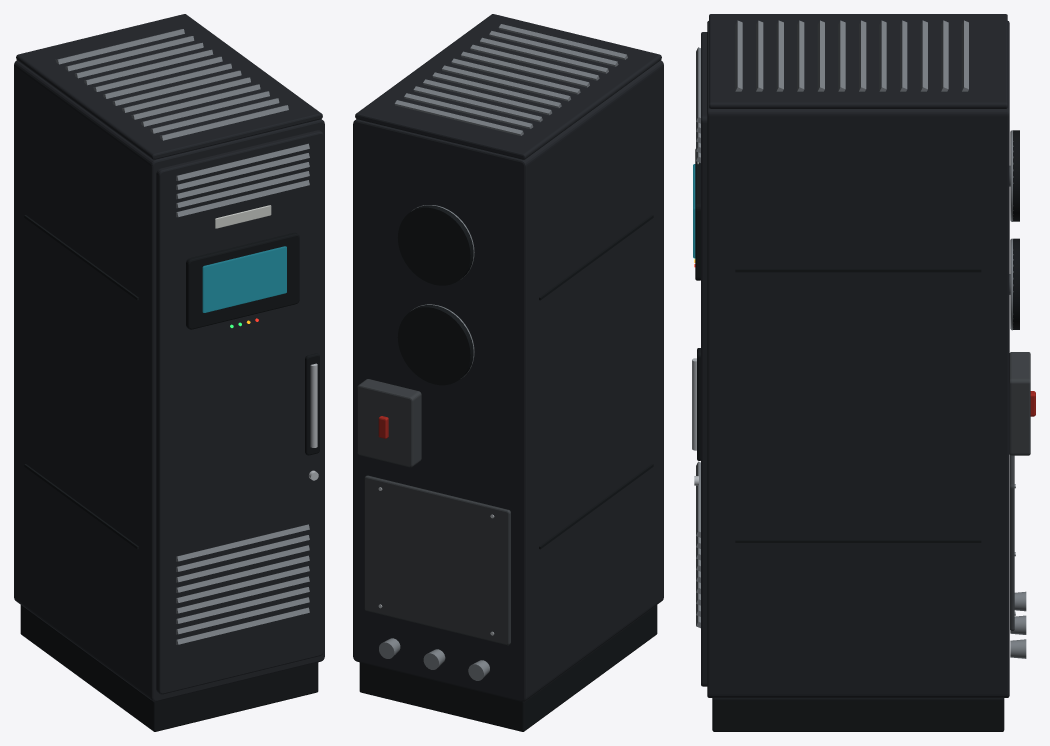
Rendered from ups.glb.
3 renders of one model, left to right at view 1: azimuth 30°, elevation 25°; view 2: azimuth 150°, elevation 25°; view 3: azimuth 270°, elevation 25°, orthographic. The views are drawn at different scales.
Visible parts, largest first — view 1: cabinet_body, front_door, top_deck, top_exhaust, base_plinth, front_lower_vent, hmi_bezel, front_upper_vent, hmi_touchscreen, door_handle_recess, door_handle, hmi_brand_plate (+2 smaller); view 2: cabinet_body, rear_terminal_cover, top_deck, top_exhaust, base_plinth, rear_breaker_box, rear_fan_upper_recess, rear_fan_lower_recess, side_seam_l_1, side_seam_l_0; view 3: cabinet_body, top_deck, base_plinth, top_exhaust, front_door, rear_breaker_box, side_seam_r_0, side_seam_r_1, rear_terminal_cover, front_lower_vent, hmi_bezel, rear_fan_upper_recess (+2 smaller).
Boxes of the visible parts, bbox=[...] form: cabinet_body: bbox=[14, 60, 324, 701]; front_door: bbox=[156, 130, 323, 694]; top_deck: bbox=[16, 14, 322, 159]; top_exhaust: bbox=[55, 29, 288, 140]; base_plinth: bbox=[20, 605, 318, 731]; front_lower_vent: bbox=[176, 524, 309, 644]; hmi_bezel: bbox=[186, 232, 299, 329]; front_upper_vent: bbox=[176, 143, 309, 217]; hmi_touchscreen: bbox=[202, 246, 286, 312]; door_handle_recess: bbox=[305, 353, 319, 455]; door_handle: bbox=[310, 363, 317, 447]; hmi_brand_plate: bbox=[215, 205, 271, 228]; cabinet_body: bbox=[353, 60, 663, 701]; rear_terminal_cover: bbox=[364, 475, 510, 645]; top_deck: bbox=[355, 14, 661, 159]; top_exhaust: bbox=[394, 24, 627, 135]; base_plinth: bbox=[359, 605, 657, 731]; rear_breaker_box: bbox=[357, 379, 421, 467]; rear_fan_upper_recess: bbox=[397, 205, 473, 285]; rear_fan_lower_recess: bbox=[397, 305, 473, 385]; side_seam_l_1: bbox=[539, 215, 653, 300]; side_seam_l_0: bbox=[539, 464, 653, 549]; cabinet_body: bbox=[707, 21, 1009, 697]; top_deck: bbox=[709, 14, 1007, 108]; base_plinth: bbox=[712, 698, 1004, 731]; top_exhaust: bbox=[735, 20, 968, 91]; front_door: bbox=[701, 32, 707, 686]; rear_breaker_box: bbox=[1009, 352, 1030, 455]; side_seam_r_0: bbox=[735, 539, 981, 542]; side_seam_r_1: bbox=[735, 269, 981, 272]; rear_terminal_cover: bbox=[1010, 455, 1014, 630]; front_lower_vent: bbox=[696, 461, 700, 628]; hmi_bezel: bbox=[695, 149, 700, 280]; rear_fan_upper_recess: bbox=[1013, 130, 1019, 221].
Bounding box in the file's own units: 0.634 × 1.99 × 0.978.
